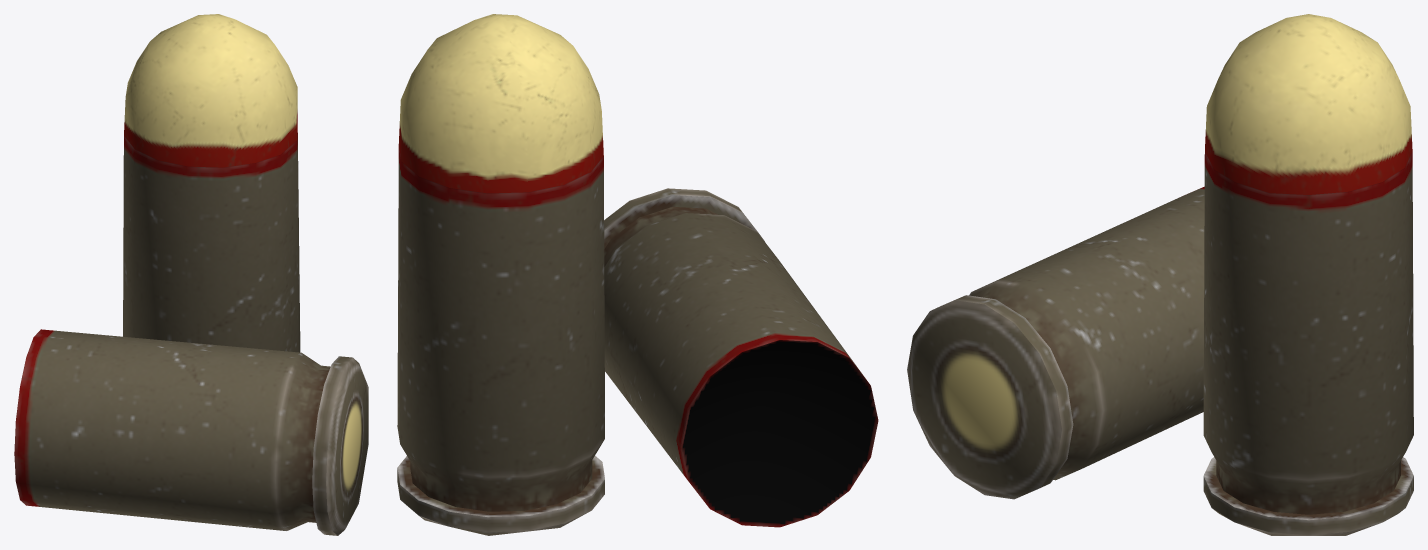
Rendered from Municiones.glb.
The picture shows the model from 3 angles, left to right: view 1: azimuth 30°, elevation 25°; view 2: azimuth 150°, elevation 25°; view 3: azimuth 270°, elevation 25°; orthographic projection. The views are drawn at different scales.
Visible parts, largest first — view 1: 9x18pm_shell, 9x18pm; view 2: 9x18pm, 9x18pm_shell; view 3: 9x18pm, 9x18pm_shell.
Part boxes in pixels (x1,y1,x2,y2): 9x18pm_shell: [14, 329, 368, 535]; 9x18pm: [123, 14, 300, 352]; 9x18pm: [397, 14, 604, 535]; 9x18pm_shell: [604, 188, 878, 527]; 9x18pm: [1203, 14, 1413, 535]; 9x18pm_shell: [907, 186, 1204, 499].
Size of the model in its own units: 0.0216 by 0.025 by 0.024.
1 material, 1 textured.
